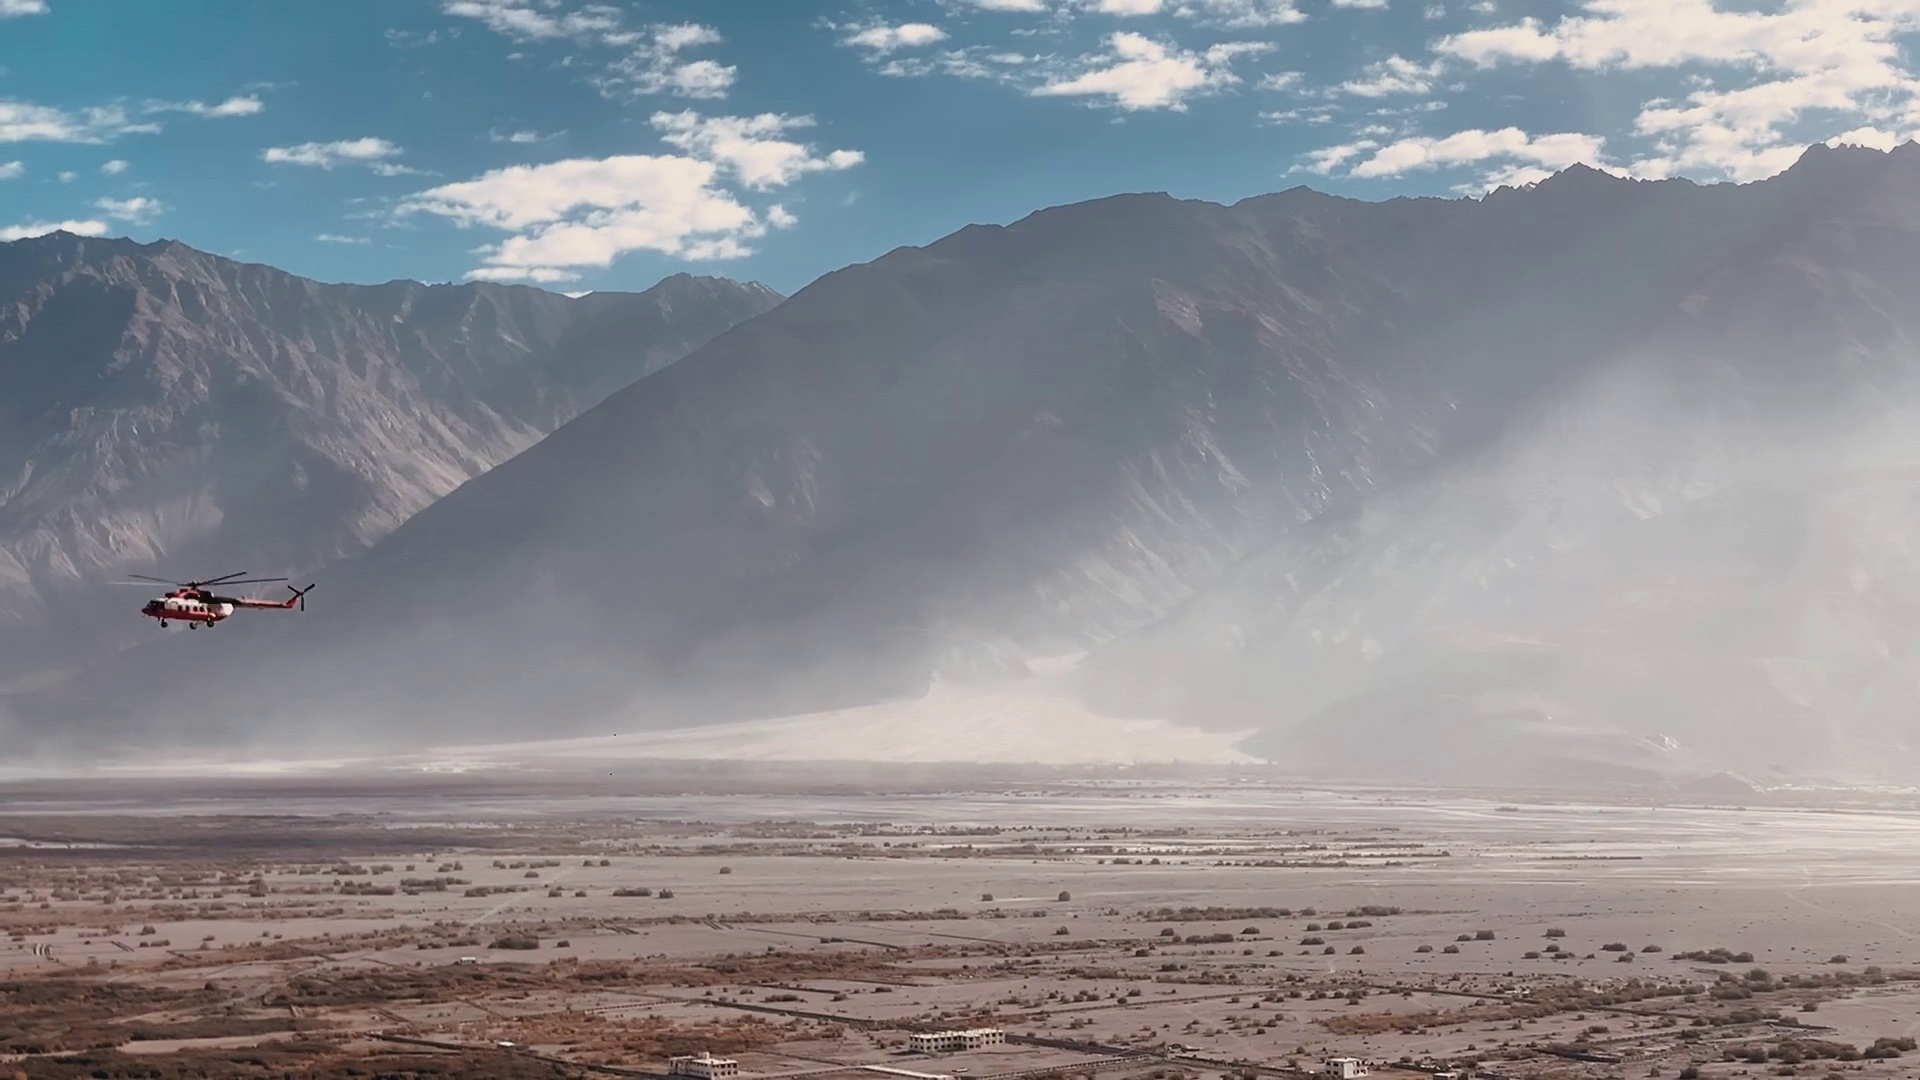heli: (105, 564, 313, 632)
